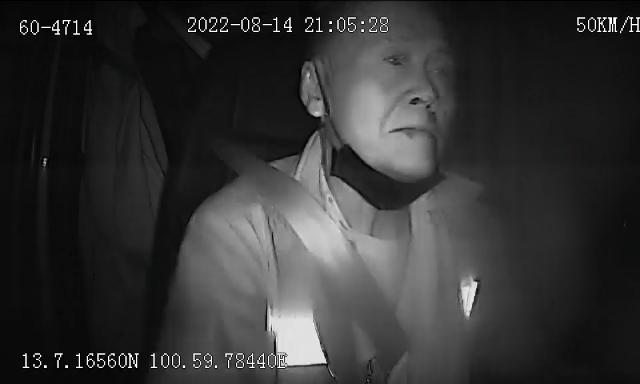Seatbelt: (203, 138, 421, 384)
